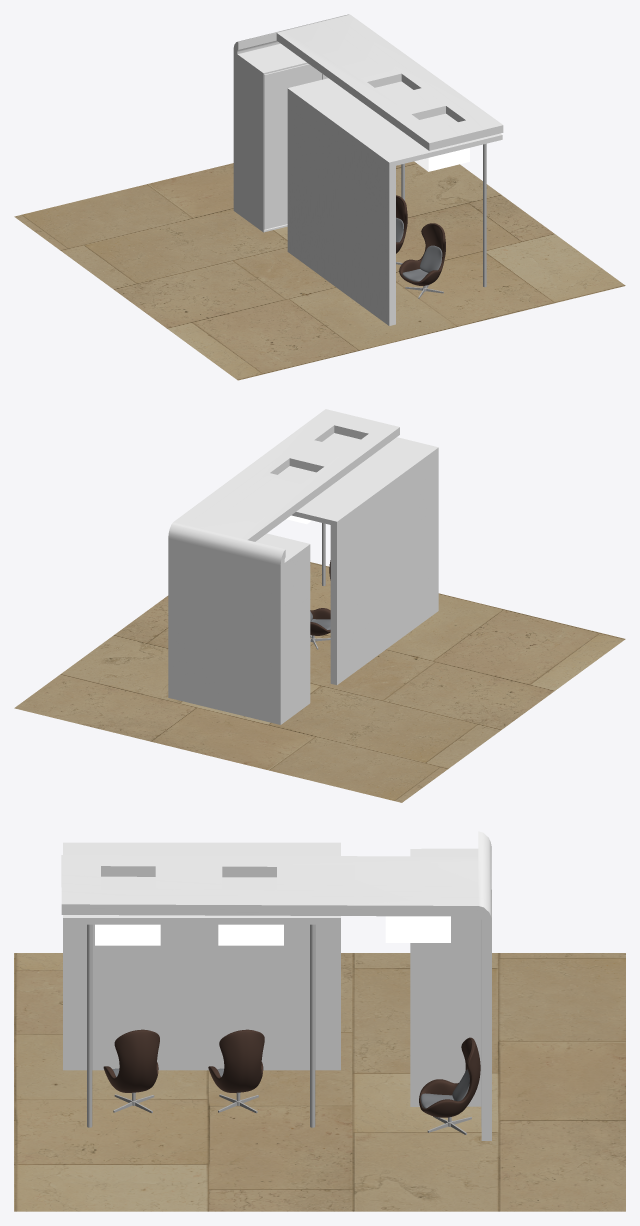
The picture shows the model from 3 angles, top to bottom: view 1: azimuth 30°, elevation 25°; view 2: azimuth 150°, elevation 25°; view 3: azimuth 270°, elevation 25°; orthographic projection. The views are drawn at different scales.
Visible parts, largest first — view 1: pPlane1, pCube16, pCube11, pasted__Box06, pCube14, pCylinder4; view 2: pPlane1, pCube11, pCube16; view 3: pPlane1, pCube16, pCube11, pasted__Box06 (×3), pCube15, pCube13, pCube14, pCylinder3, pCylinder4.
Boxes of the visible parts, box(x1,y1,x2,y2) form: pPlane1: box(14, 161, 625, 380); pCube16: box(287, 78, 502, 325); pCube11: box(233, 14, 503, 232); pasted__Box06: box(399, 223, 445, 285); pCube14: box(414, 148, 469, 171); pCylinder4: box(483, 143, 486, 287); pPlane1: box(14, 562, 625, 802); pCube11: box(168, 409, 399, 724); pCube16: box(278, 433, 438, 684); pPlane1: box(14, 953, 625, 1211); pCube16: box(63, 842, 340, 1070); pCube11: box(61, 831, 491, 1140); pasted__Box06 (×3): box(103, 1029, 480, 1117); pCube15: box(385, 916, 450, 942); pCube13: box(218, 924, 283, 945); pCube14: box(95, 924, 160, 945); pCylinder3: box(310, 924, 315, 1127); pCylinder4: box(87, 924, 92, 1127).
Size of the model in its own units: 10.47 by 4.48 by 10.47.
Materials: 8 (2 with a texture image).
